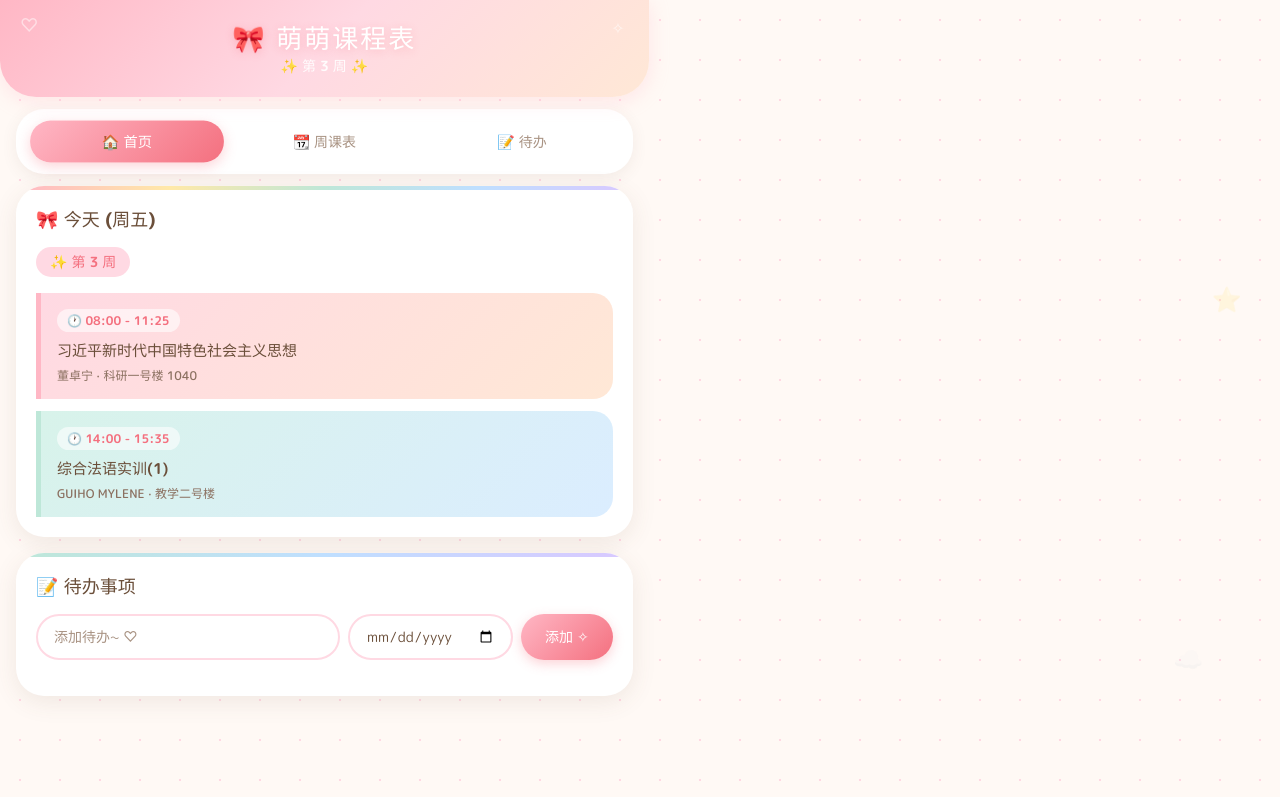
Scenario: Week Navigation › should have prev and next week buttons
Click the button "📆 周课表": [324, 142] box [230,121,419,162]
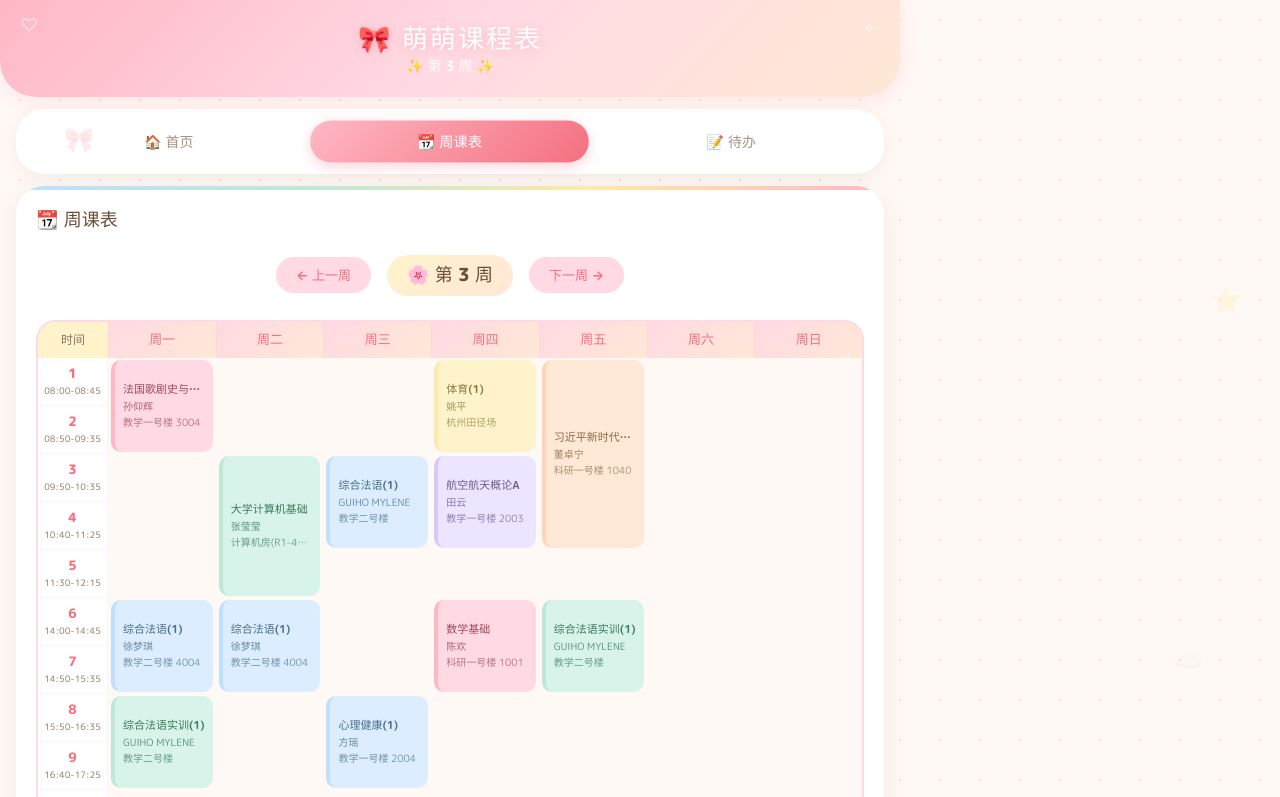
Result: the button "← 上一周" is shown at [276,257,371,293]
Result: the button "下一周 →" is shown at [529,257,624,293]
